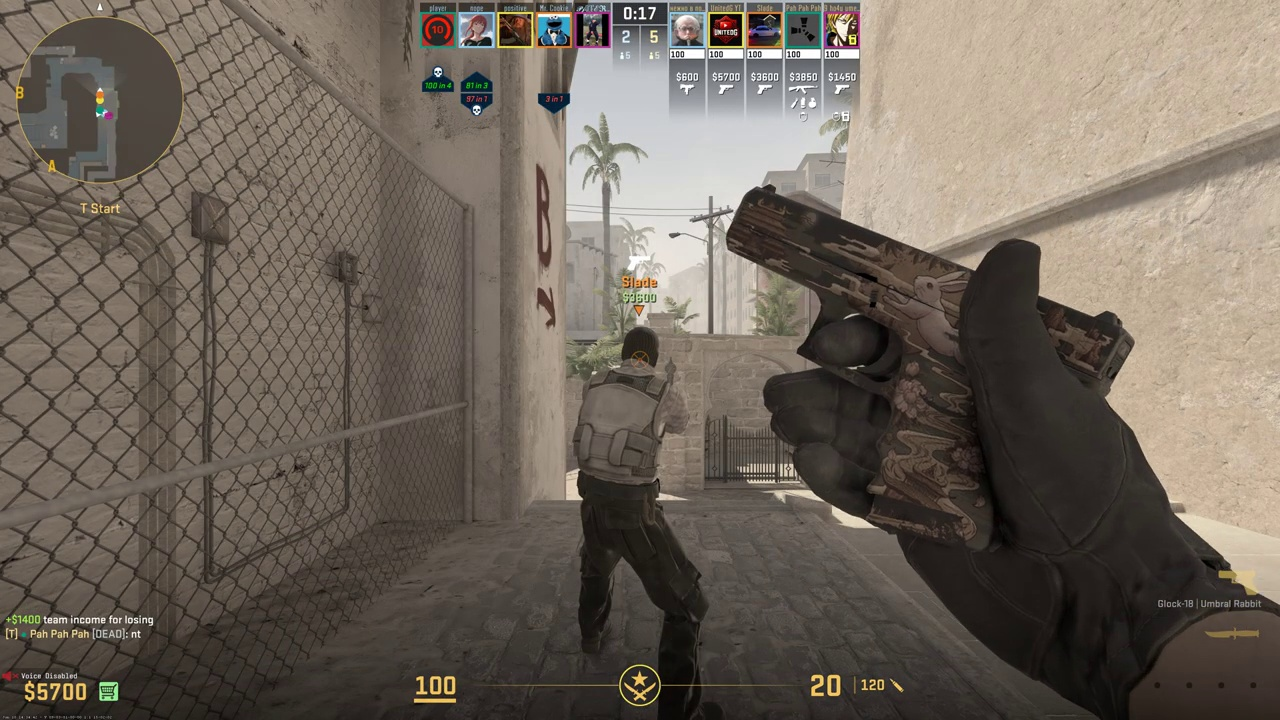Terrorist: (573, 327, 700, 715)
